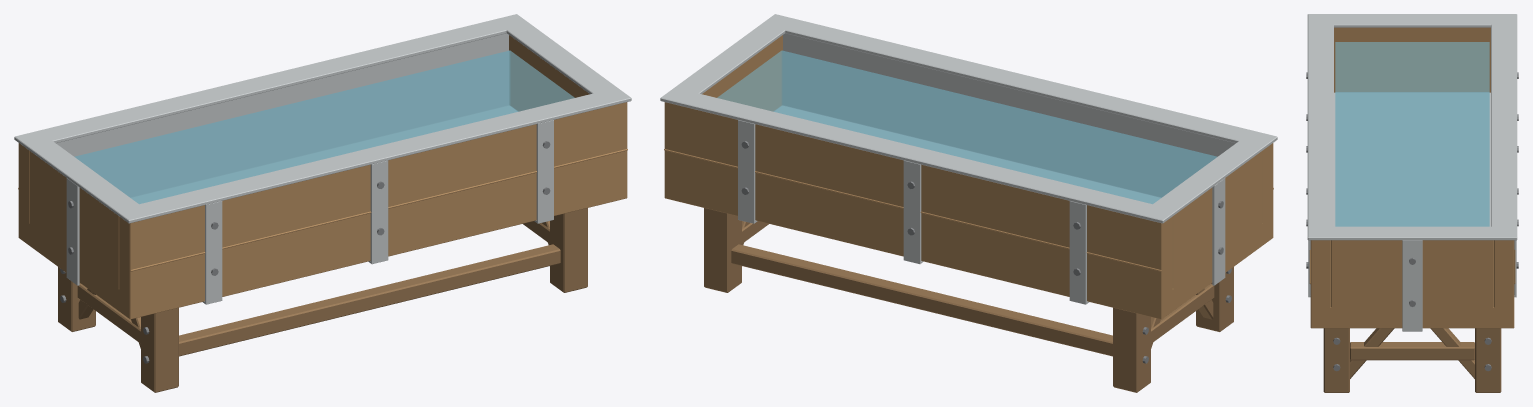
The picture shows the model from 3 angles, left to right: view 1: azimuth 30°, elevation 25°; view 2: azimuth 150°, elevation 25°; view 3: azimuth 270°, elevation 25°; orthographic projection. The views are drawn at different scales.
Parts seen in each view (by area): view 1: Basin_Timber, Liner_Metal, Water_Surface, Frame_Timber, Straps_Metal, Bolts; view 2: Basin_Timber, Liner_Metal, Water_Surface, Frame_Timber, Straps_Metal, Bolts; view 3: Water_Surface, Basin_Timber, Liner_Metal, Frame_Timber, Straps_Metal, Bolts.
Boxes of the visible parts, x1,y1,x2,y2 form: Basin_Timber: [18, 35, 627, 319]; Liner_Metal: [14, 14, 631, 223]; Water_Surface: [74, 50, 574, 204]; Frame_Timber: [58, 208, 587, 392]; Straps_Metal: [66, 120, 553, 304]; Bolts: [60, 141, 550, 363]; Basin_Timber: [664, 35, 1273, 319]; Liner_Metal: [660, 14, 1277, 223]; Water_Surface: [717, 50, 1217, 204]; Frame_Timber: [704, 208, 1233, 392]; Straps_Metal: [738, 120, 1225, 304]; Bolts: [741, 141, 1231, 363]; Water_Surface: [1335, 42, 1489, 226]; Basin_Timber: [1309, 27, 1515, 328]; Liner_Metal: [1307, 14, 1517, 240]; Frame_Timber: [1323, 328, 1501, 392]; Straps_Metal: [1308, 240, 1516, 331]; Bolts: [1306, 72, 1518, 371].
Size of the model in its own units: 1.83 by 0.65 by 0.73.
